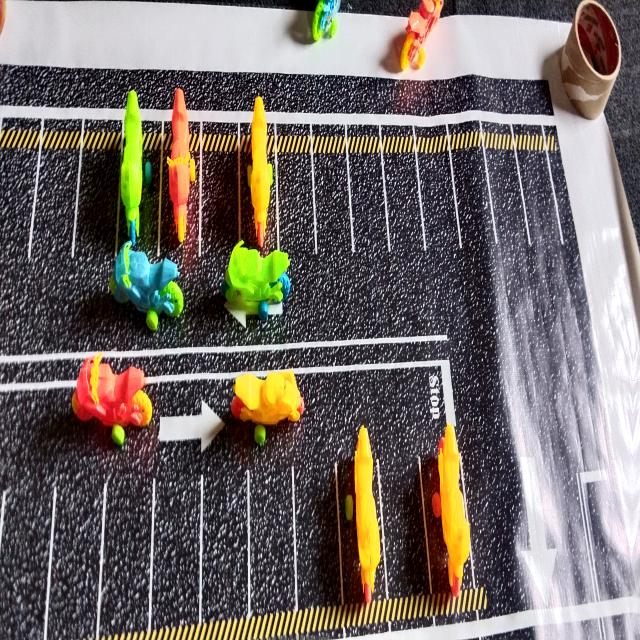bikes: (72, 352, 152, 445), (110, 241, 184, 330), (231, 370, 304, 445), (221, 240, 290, 318), (400, 0, 444, 70), (311, 0, 340, 41)
occupied: (420, 424, 475, 597), (338, 426, 384, 603), (116, 90, 162, 256), (160, 87, 199, 267), (240, 97, 277, 251)
others: (560, 0, 621, 120)
slots: (48, 462, 104, 640), (100, 472, 152, 635), (0, 482, 53, 640), (153, 475, 200, 627), (381, 458, 429, 597), (203, 471, 247, 619), (296, 462, 340, 608), (250, 468, 294, 613), (480, 121, 530, 246), (448, 123, 496, 247), (31, 150, 79, 259), (277, 150, 316, 281), (75, 150, 120, 259), (0, 148, 39, 269), (418, 149, 459, 259), (314, 151, 352, 262), (384, 151, 423, 252), (349, 153, 388, 253), (518, 150, 559, 243), (202, 151, 238, 252)
